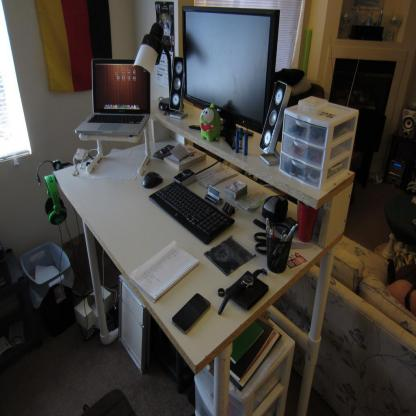board: (74, 59, 152, 135), (244, 132, 248, 156), (238, 126, 242, 149), (235, 132, 239, 152)
